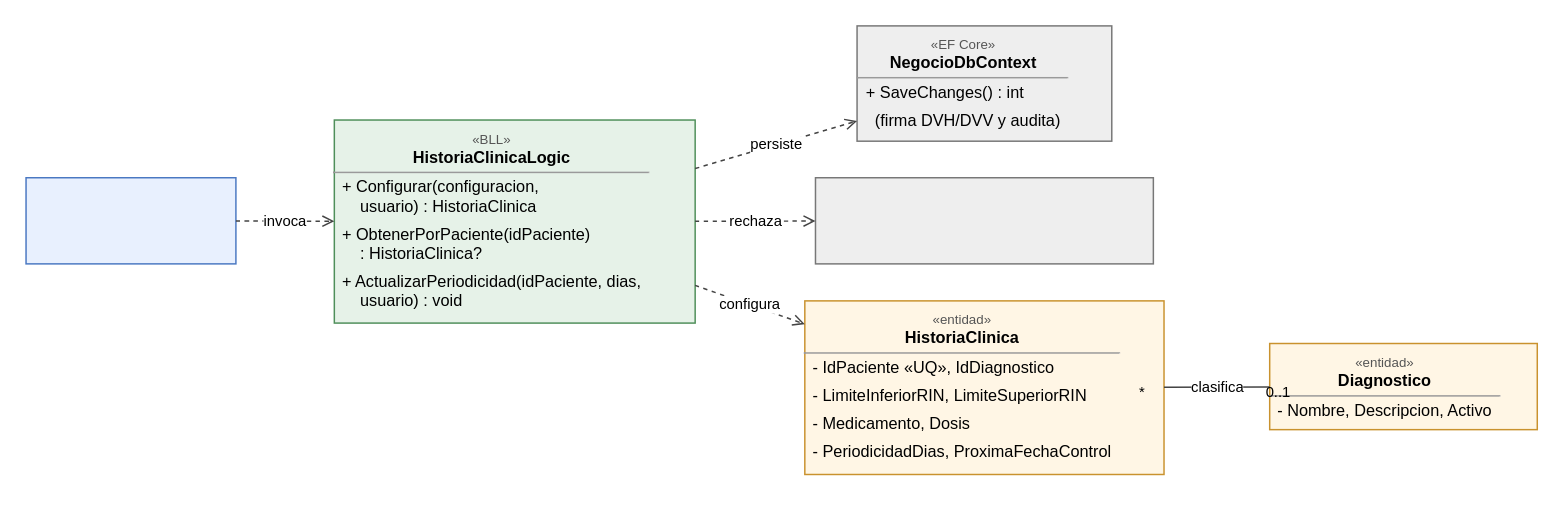
Some shapes in this 1564 by 508 pixel diagram are drawn without their labels. The shapes that lost their labels are listed below. From the top down, each one's box as (x1, y1, x2, y2) in pixels, then its label:
(25, 176, 236, 264): «Form» HistoriaClinicaForm (configuración clínica)
(814, 176, 1153, 264): «static» ReglasNegocio + Rechazar(errores, contexto, usuario)
